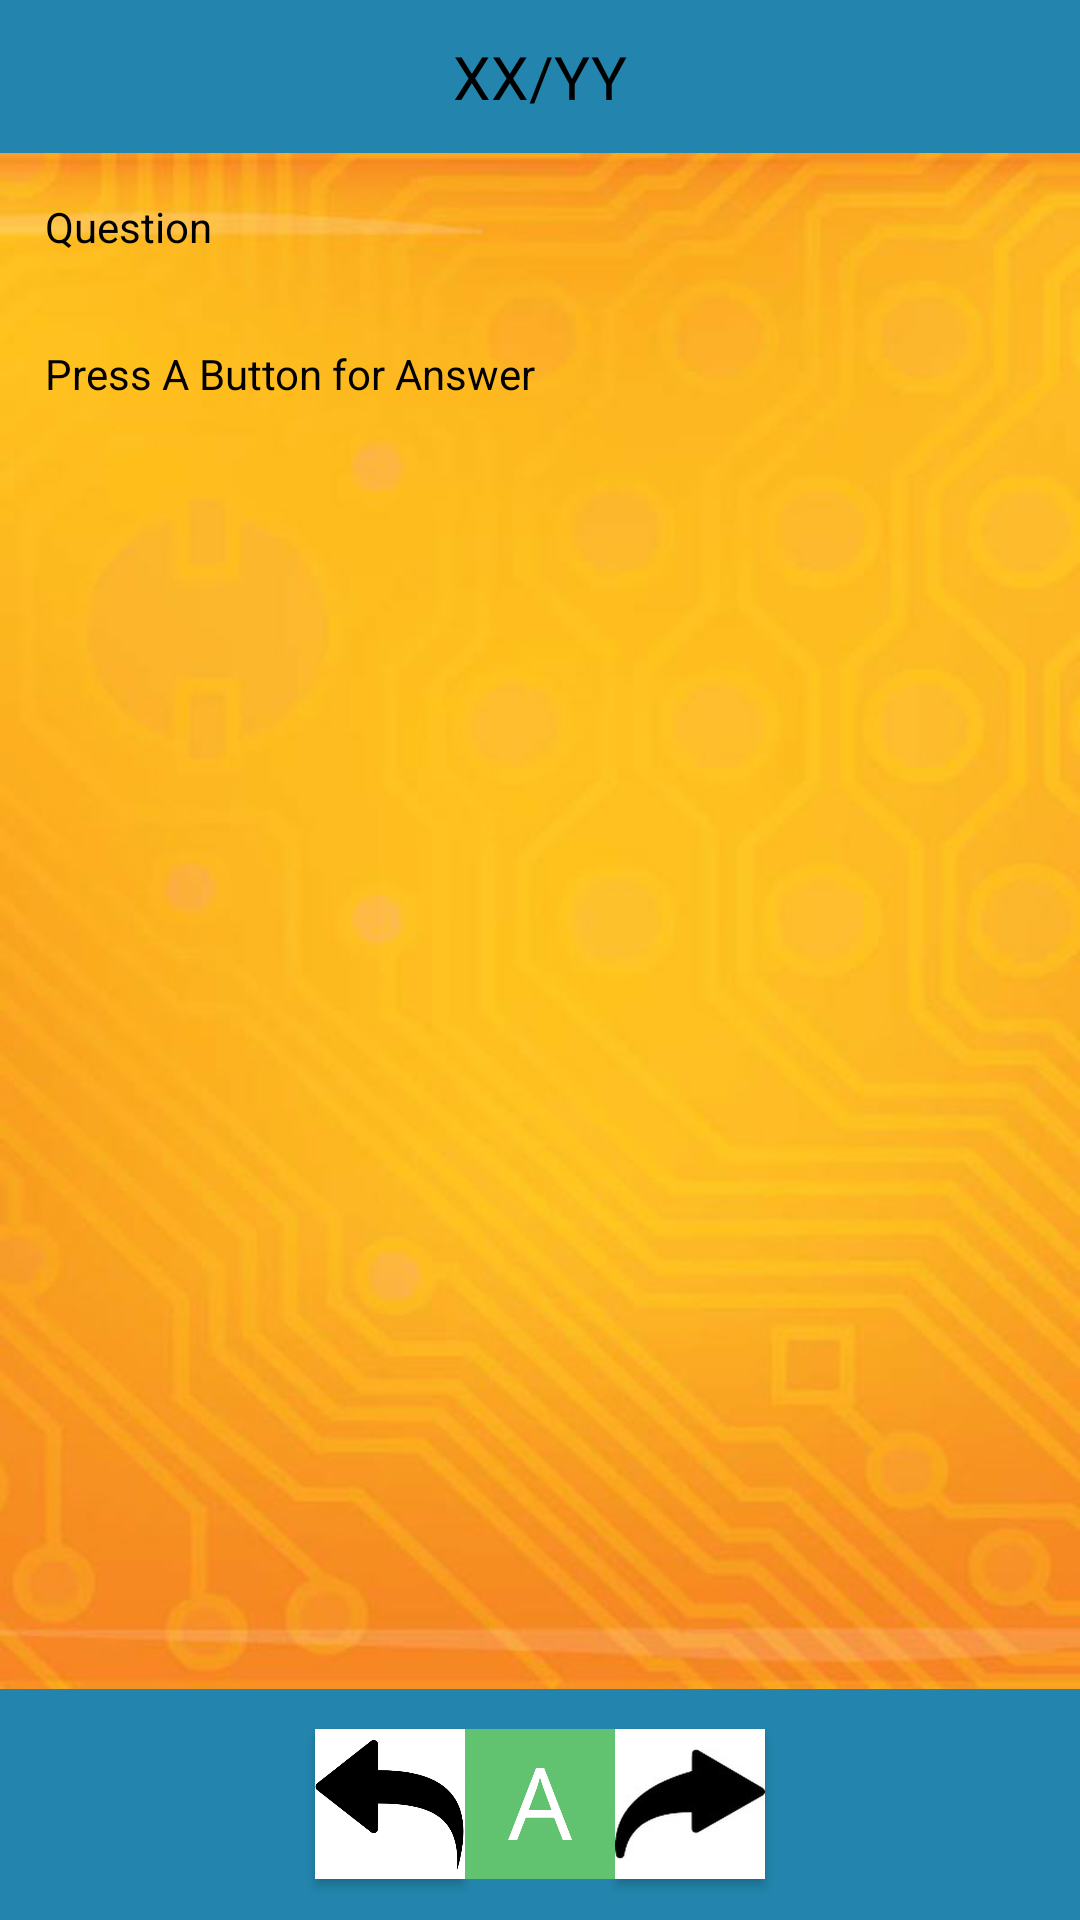

Screen size 1080 x 1920. Icon name, then its center in pixels as [x,y]:
leftpng: [390,1804]
rightpng: [690,1804]
